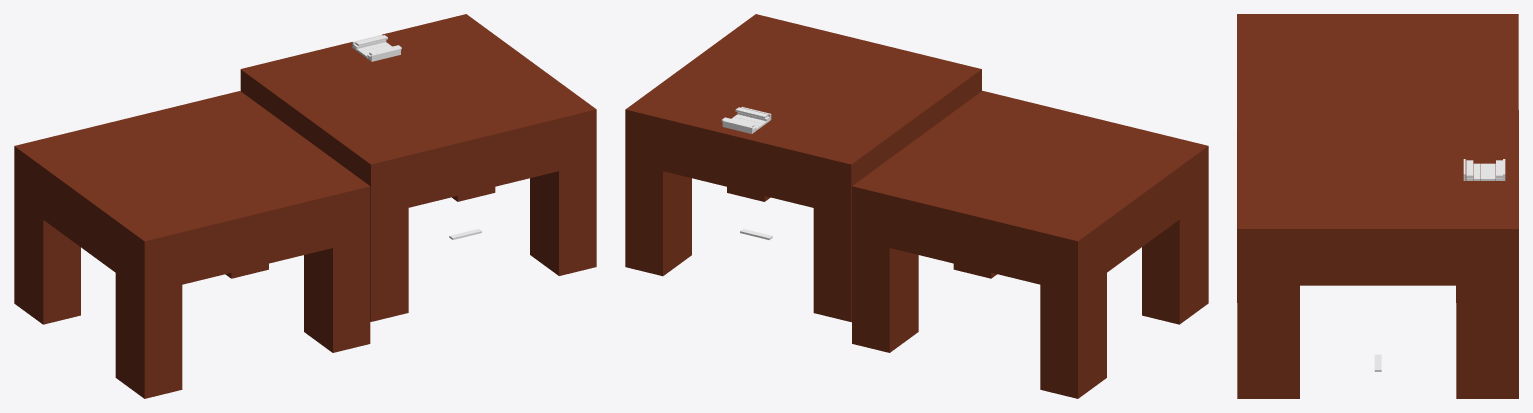
Rendered from keva_single_station.dae.
The picture shows the model from 3 angles, left to right: view 1: azimuth 30°, elevation 25°; view 2: azimuth 150°, elevation 25°; view 3: azimuth 270°, elevation 25°; orthographic projection. The views are drawn at different scales.
Parts seen in each view (by area): view 1: base (×7); view 2: base (×7); view 3: base (×4).
Boxes of the visible parts, box(x1,y1,x2,y2) form: base (×7): box(14, 14, 596, 398); base (×7): box(625, 14, 1208, 398); base (×4): box(1237, 14, 1518, 398).
Bounding box in the file's own units: 1.8 × 0.9009 × 0.7055.
